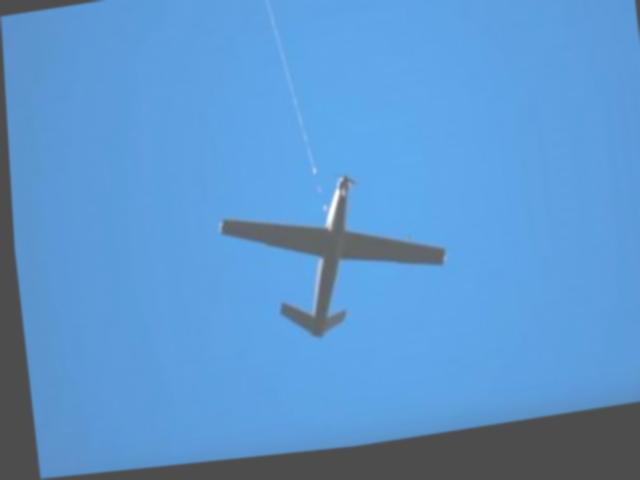uav: (210, 164, 451, 361)
